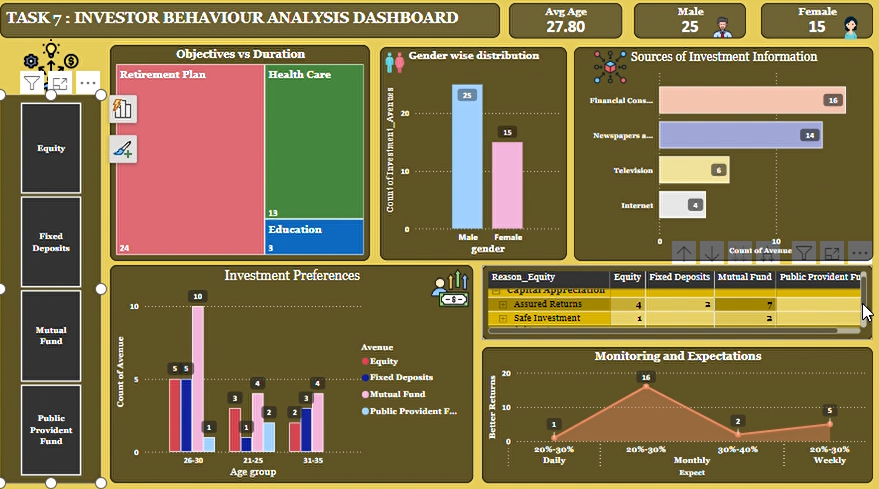

The page's visual inventory and layout, read from the dashboard file:
{"tool":"powerbi","page":{"name":"Task 7","canvas":[1280,720],"ordinal":6},"visuals":[{"type":"textbox","box":[10.1,10.1,720,50.4],"z":0},{"type":"slicer","fields":{"Values":["Data_set 2 (1).Avenue"]},"box":[10.1,142.6,145.4,558.7],"z":1000},{"type":"card","title":"Avg Age","fields":{"Values":["Data_set 2 (1).Avg age"]},"box":[743.3,10.4,162.7,50.7],"z":2000},{"type":"card","title":"Male","fields":{"Values":["Data_set 2 (1).Male"]},"box":[922.4,10.4,161.2,50.7],"z":3000},{"type":"card","title":"Female","fields":{"Values":["Data_set 2 (1).Female"]},"box":[1106,10.4,161.2,50.7],"z":4000},{"type":"columnChart","title":"Gender wise distribution","fields":{"Category":["Data_set 2 (1).gender"],"Y":["CountNonNull(Data_set 2 (1).Investment_Avenues)"]},"box":[556.7,73.1,268.7,307.5],"z":5000},{"type":"clusteredColumnChart","title":"Investment Preferences","fields":{"Category":["Data_set 2 (1).Age group"],"Series":["Data_set 2 (1).Avenue"],"Y":["CountNonNull(Data_set 2 (1).Avenue)"]},"box":[168.5,387.4,522.7,313.9],"z":6000},{"type":"treemap","title":"Objectives vs Duration","fields":{"Group":["Data_set 2 (1).What are your savings objectives?"],"Values":["CountNonNull(Data_set 2 (1).Duration)"]},"box":[168.5,70.6,374.4,311],"z":7000},{"type":"pivotTable","fields":{"Columns":["Data_set 2 (1).Avenue"],"Rows":["Data_set 2 (1).Reason_Equity","Data_set 2 (1).Reason_Bonds","Data_set 2 (1).Reason_Mutual","Data_set 2 (1).Reason_FD"],"Values":["Data_set 2 (1).Better Returns"]},"box":[704.2,387.4,563,108],"z":8000},{"type":"lineChart","title":"Monitoring and Expectations","fields":{"Category":["Data_set 2 (1).Invest_Monitor","Data_set 2 (1).Expect"],"Y":["Data_set 2 (1).Better Returns"]},"box":[704.2,505.4,563,195.8],"z":9000},{"type":"clusteredBarChart","title":"Sources of Investment Information","fields":{"Y":["CountNonNull(Data_set 2 (1).Avenue)"],"Category":["Data_set 2 (1).Source"]},"box":[836.6,73.4,430.6,308.2],"z":10000},{"type":"image","box":[18.7,54.7,129.6,93.6],"z":11000},{"type":"image","box":[557.3,73.4,43.2,44.6],"z":12000},{"type":"image","box":[853.9,73.4,69.1,57.6],"z":13000},{"type":"image","box":[1029.6,21.6,41.8,49],"z":14000},{"type":"image","box":[1213.9,21.6,43.2,49],"z":15000},{"type":"image","box":[625,387.4,66.2,66.2],"z":16000}]}

Visuals, with their boxes in screenshot pixels (x1, y1, x2, y2), scaled from the page's 1280x720 canvas onto the 879x489 screenshot:
textbox: (7, 7, 501, 41)
slicer - Data_set 2 (1).Avenue: (7, 97, 107, 476)
"Avg Age" card: (510, 7, 622, 41)
"Male" card: (633, 7, 744, 41)
"Female" card: (760, 7, 870, 41)
"Gender wise distribution" columnChart: (382, 50, 567, 258)
"Investment Preferences" clusteredColumnChart: (116, 263, 475, 476)
"Objectives vs Duration" treemap: (116, 48, 373, 259)
pivotTable - Data_set 2 (1).Avenue x Data_set 2 (1).Reason_Equity: (484, 263, 870, 336)
"Monitoring and Expectations" lineChart: (484, 343, 870, 476)
"Sources of Investment Information" clusteredBarChart: (575, 50, 870, 259)
image: (13, 37, 102, 101)
image: (383, 50, 412, 80)
image: (586, 50, 634, 89)
image: (707, 15, 736, 48)
image: (834, 15, 863, 48)
image: (429, 263, 475, 308)
